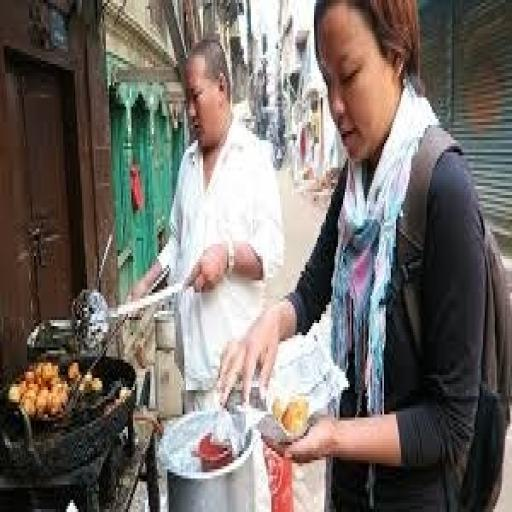eating: (215, 0, 509, 509), (126, 30, 285, 412)
